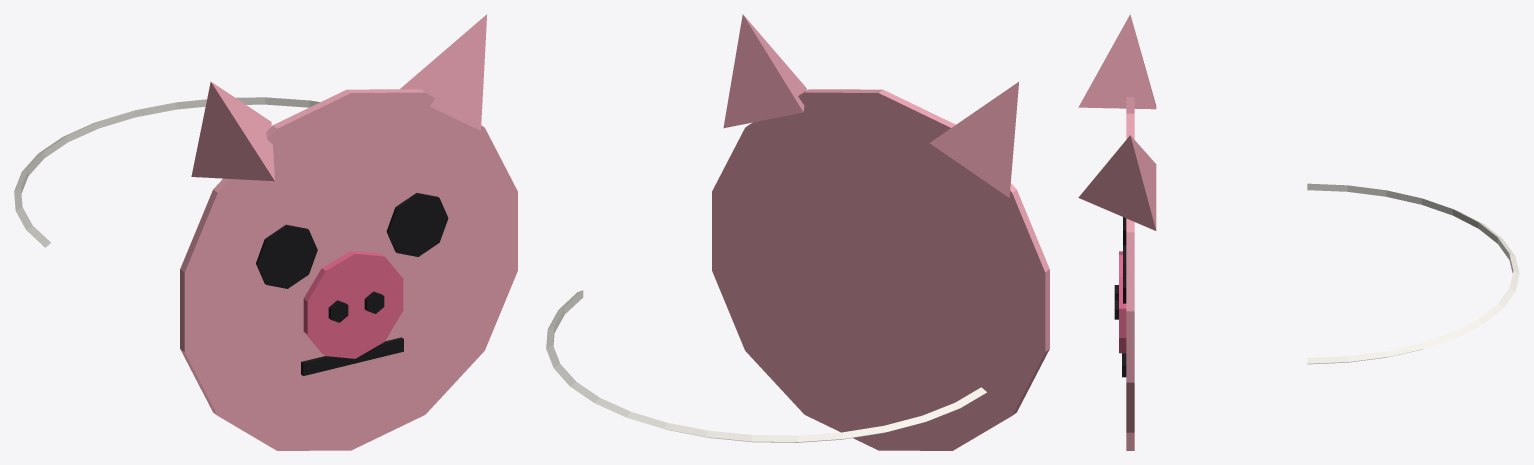
Rendered from bank_mask_chancho.glb.
The picture shows the model from 3 angles, left to right: view 1: azimuth 30°, elevation 25°; view 2: azimuth 150°, elevation 25°; view 3: azimuth 270°, elevation 25°; orthographic projection. The views are drawn at different scales.
Parts seen in each view (by area): view 1: card_card_chancho, card_card_pink, card_card_ink, elastic_card_elastic; view 2: card_card_chancho, elastic_card_elastic; view 3: card_card_chancho, elastic_card_elastic, card_card_ink, card_card_pink.
Boxes of the visible parts, box(x1,y1,x2,y2) form: card_card_chancho: box(180, 14, 517, 450); card_card_pink: box(303, 250, 403, 358); card_card_ink: box(256, 193, 448, 375); elastic_card_elastic: box(14, 97, 319, 247); card_card_chancho: box(712, 14, 1049, 450); elastic_card_elastic: box(546, 290, 986, 442); card_card_chancho: box(1078, 14, 1156, 450); elastic_card_elastic: box(1307, 183, 1519, 364); card_card_ink: box(1114, 217, 1126, 377); card_card_pink: box(1119, 251, 1126, 353).
Bounding box in the file's own units: 0.408 × 0.3814 × 0.424.
